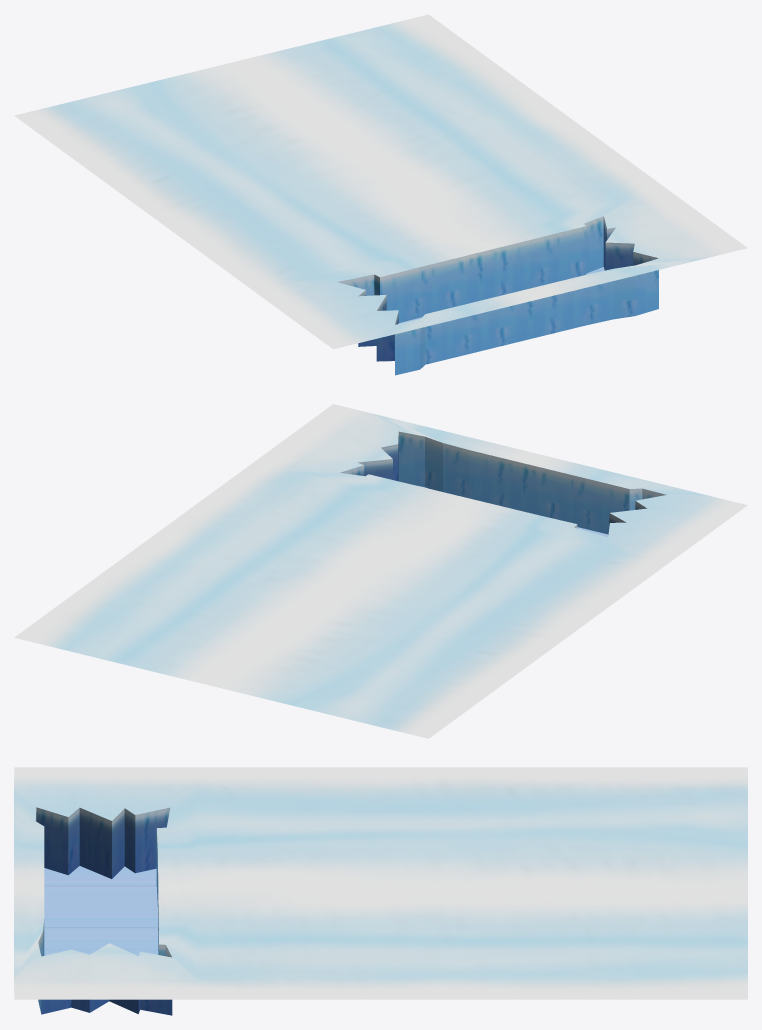
File: Hole_L_M_01.FBX
3 views of the same model, one above another, from view 1: azimuth 30°, elevation 25°; view 2: azimuth 150°, elevation 25°; view 3: azimuth 270°, elevation 25° (orthographic). The views are drawn at different scales.
Parts seen in each view (by area): view 1: Object131; view 2: Object131; view 3: Object131.
Boxes of the visible parts, left/top/right/bottom form: Object131: left=14, top=14, right=747, bottom=375; Object131: left=14, top=404, right=747, bottom=738; Object131: left=14, top=767, right=747, bottom=1015.
Size of the model in its own units: 600 by 70 by 800.
